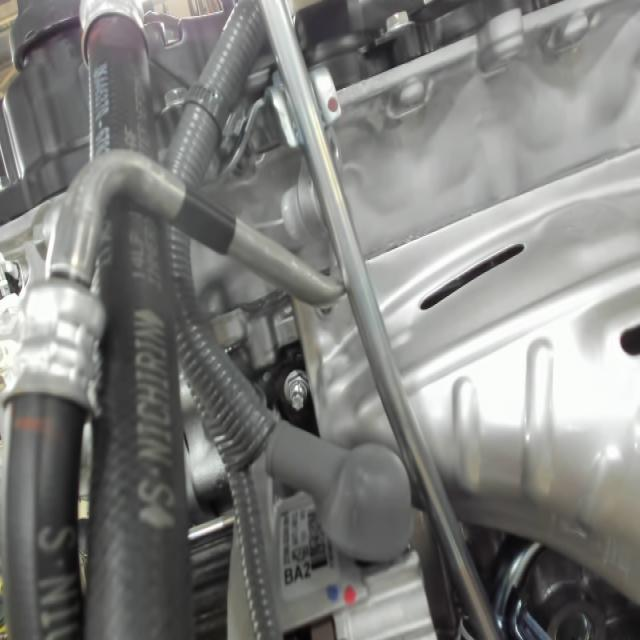Alternator-BA2: (278, 556, 322, 589)
Hose Discharge-HT: (167, 164, 238, 260)
